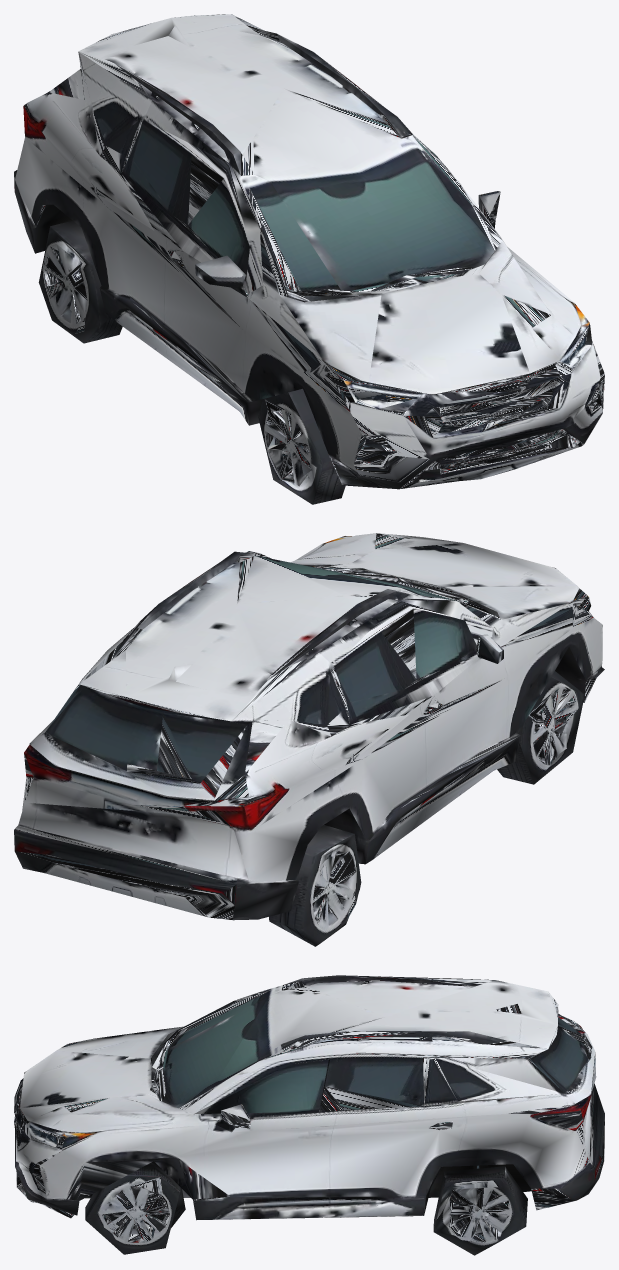
The model's file is teleopSuv.glb.
3 views of the same model, one above another, from view 1: azimuth 30°, elevation 25°; view 2: azimuth 150°, elevation 25°; view 3: azimuth 270°, elevation 25° (orthographic). The views are drawn at different scales.
Visible parts, largest first — view 1: suv; view 2: suv; view 3: suv.
Part boxes in pixels (<box>): suv: <box>14,14,604,504</box>; suv: <box>14,533,604,946</box>; suv: <box>14,975,604,1255</box>.
Bounding box in the file's own units: 2.19 × 1.79 × 4.75.
Materials: 1 (1 with a texture image).
